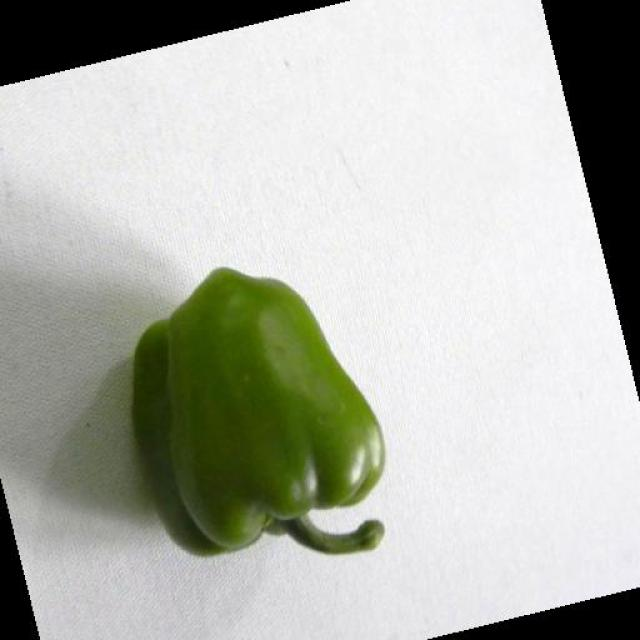Fresh_Capsicum: (130, 232, 422, 569)
